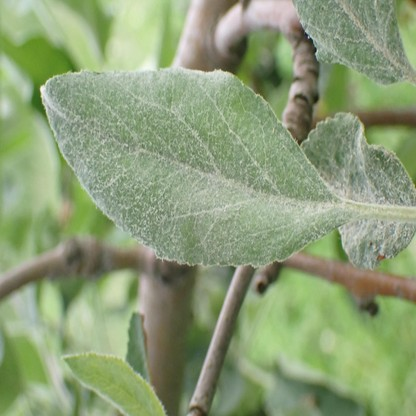powdery_mildew: (41, 68, 355, 265), (300, 111, 416, 269), (291, 0, 409, 85)
